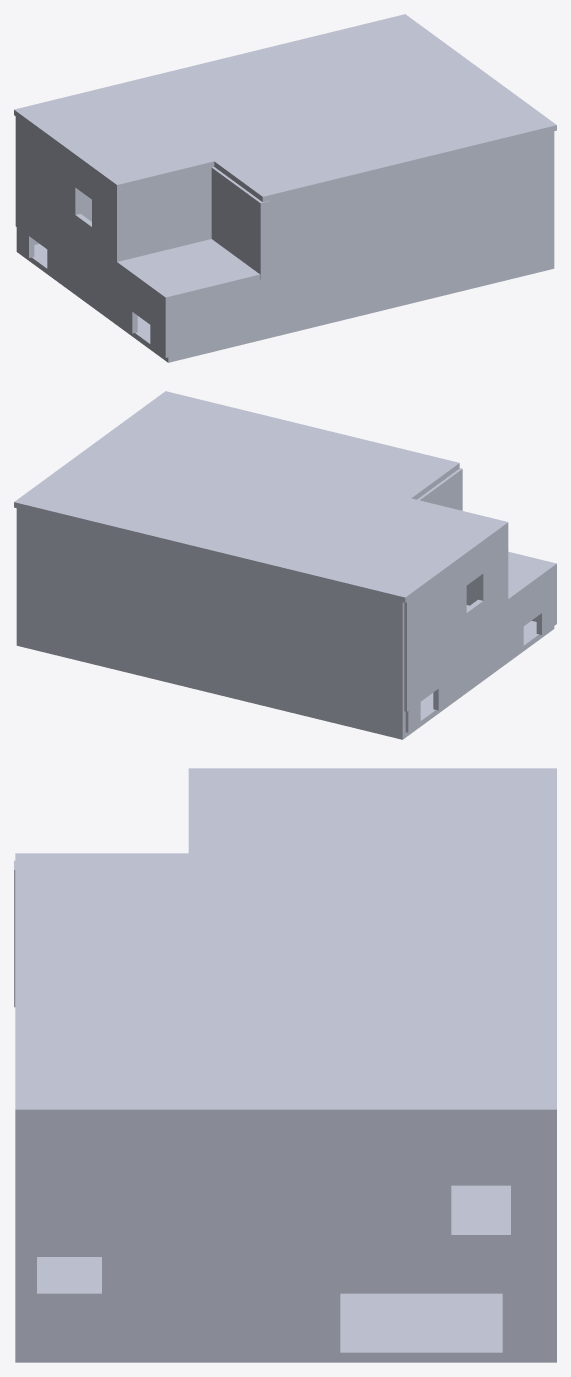
Rendered from Room2_Primitives.fbx.
3 renders of one model, top to bottom at view 1: azimuth 30°, elevation 25°; view 2: azimuth 150°, elevation 25°; view 3: azimuth 270°, elevation 25°, orthographic. The views are drawn at different scales.
Visible parts, largest first — view 1: Room2Primitive; view 2: Room2Primitive; view 3: Room2Primitive.
Boxes of the visible parts, box(x1,y1,x2,y2) form: Room2Primitive: box(14, 14, 556, 362); Room2Primitive: box(14, 391, 556, 739); Room2Primitive: box(14, 768, 556, 1362).
Size of the model in its own units: 74.5 by 26 by 50.13.
